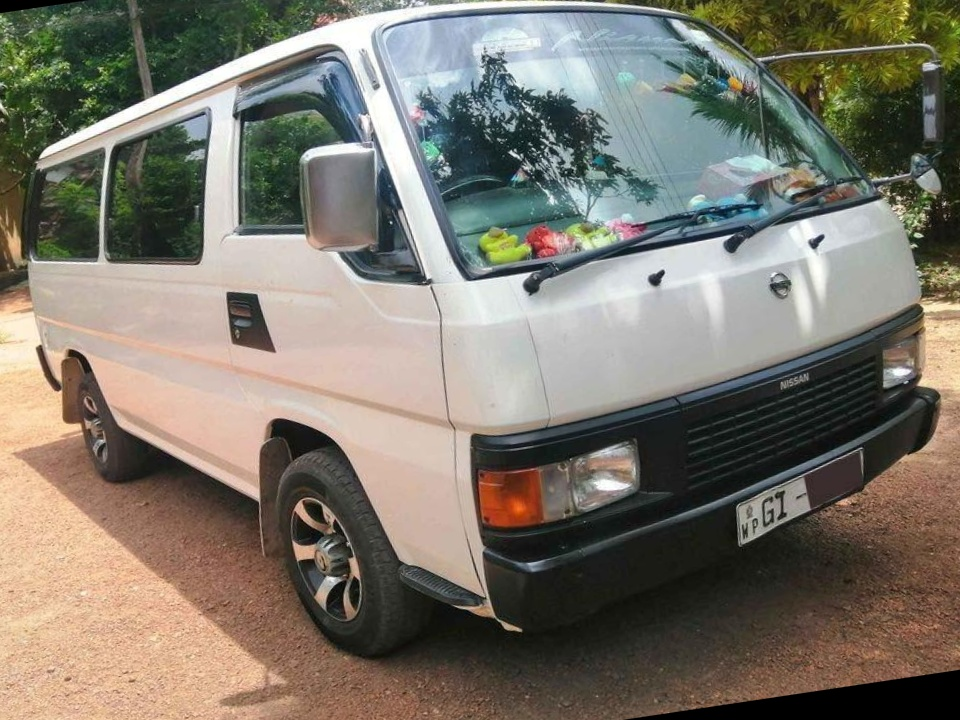van: (1, 0, 960, 672)
